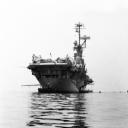Portanaves: (27, 21, 96, 97)
